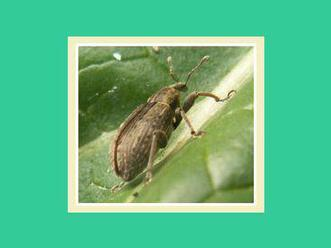weevils: (78, 46, 255, 204)
